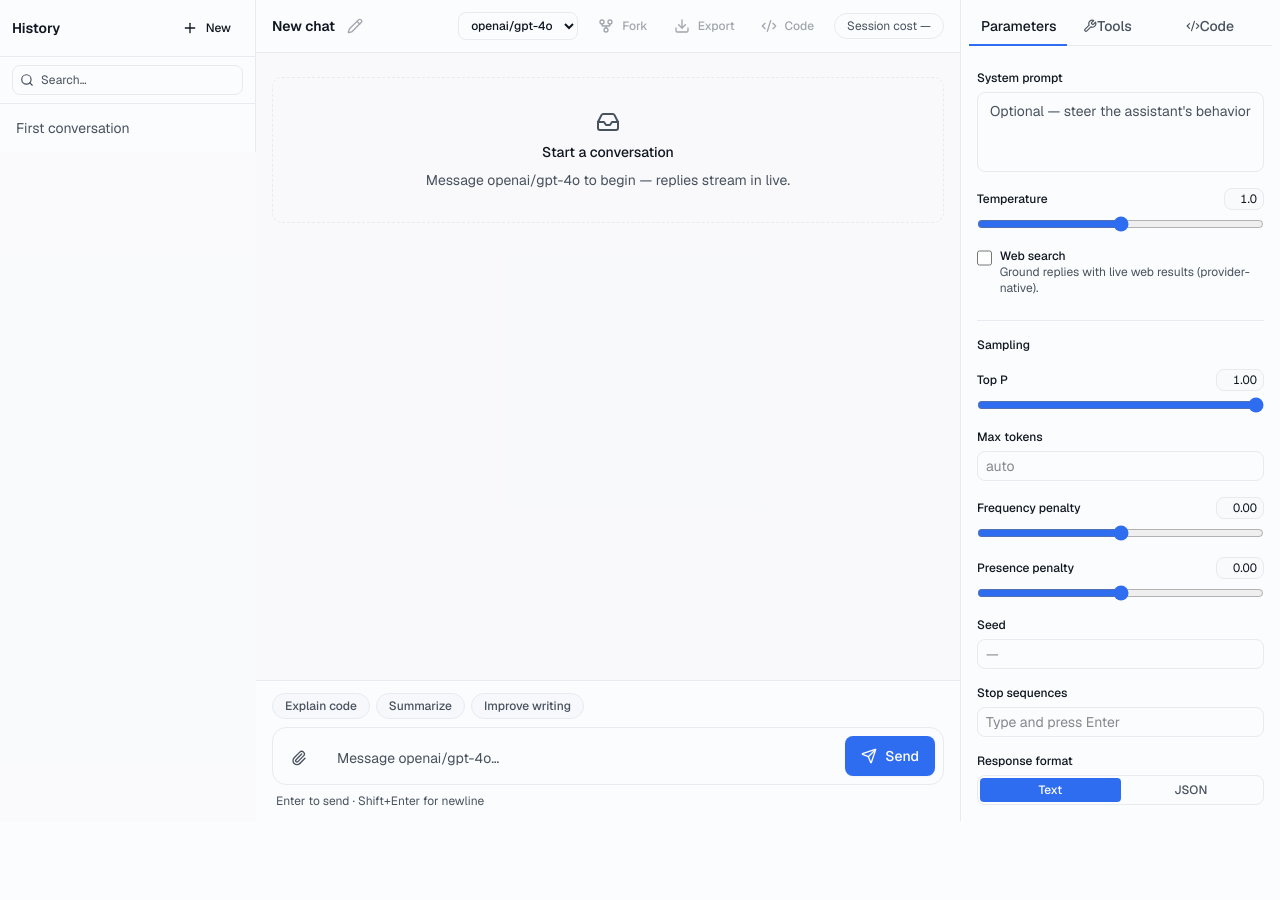
Test: ChatWorkspace — conversation persistence › resume_loads_messages_into_thread
Note: sidebar loads — use exact title to avoid matching "Delete First conversation"
Click the button "First conversation" at x=82, y=128, box [8,112,155,144]
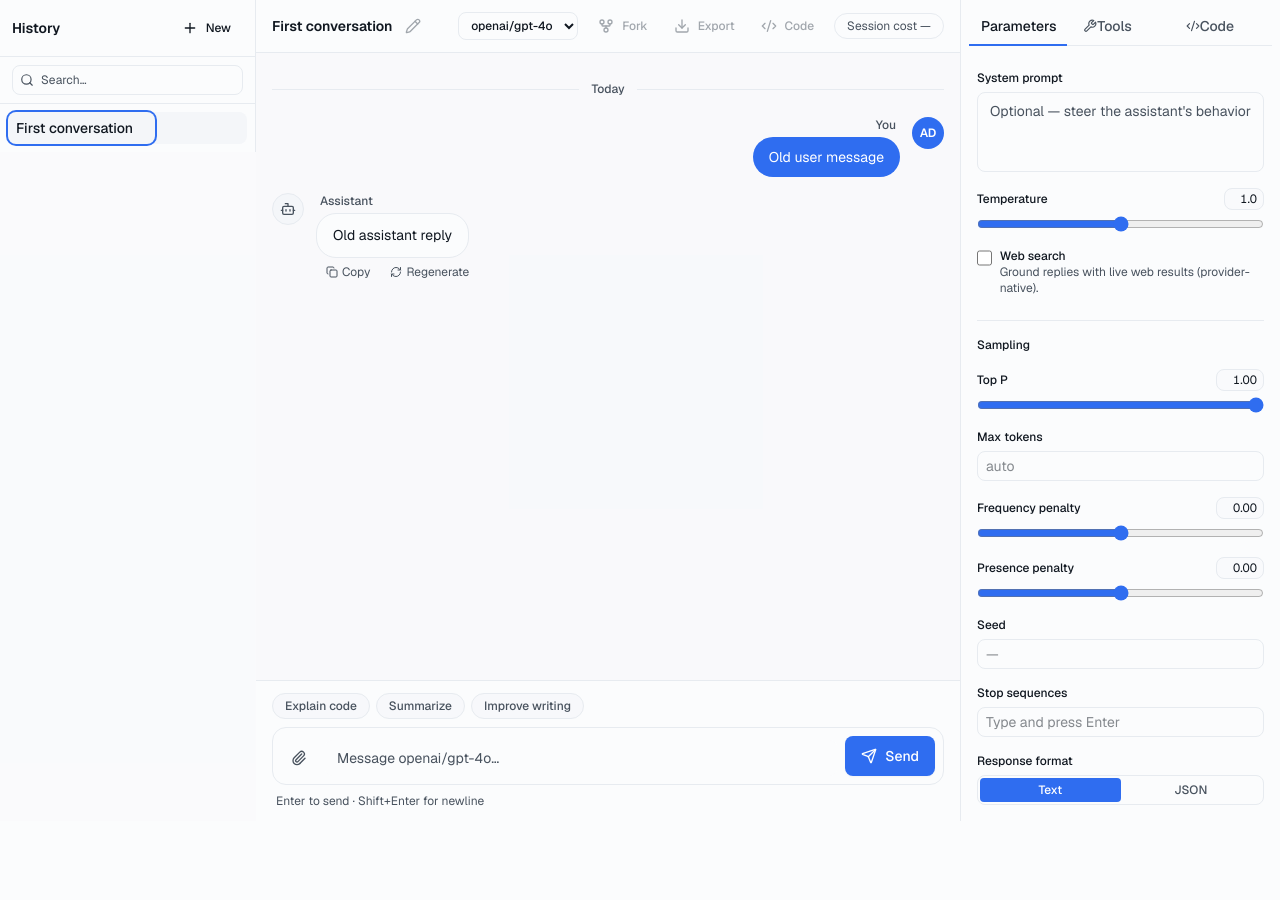
Expected: the text "Old user message" is shown, [753,137,900,177]
Expected: the text "Old assistant reply" is shown, [333,224,452,247]
